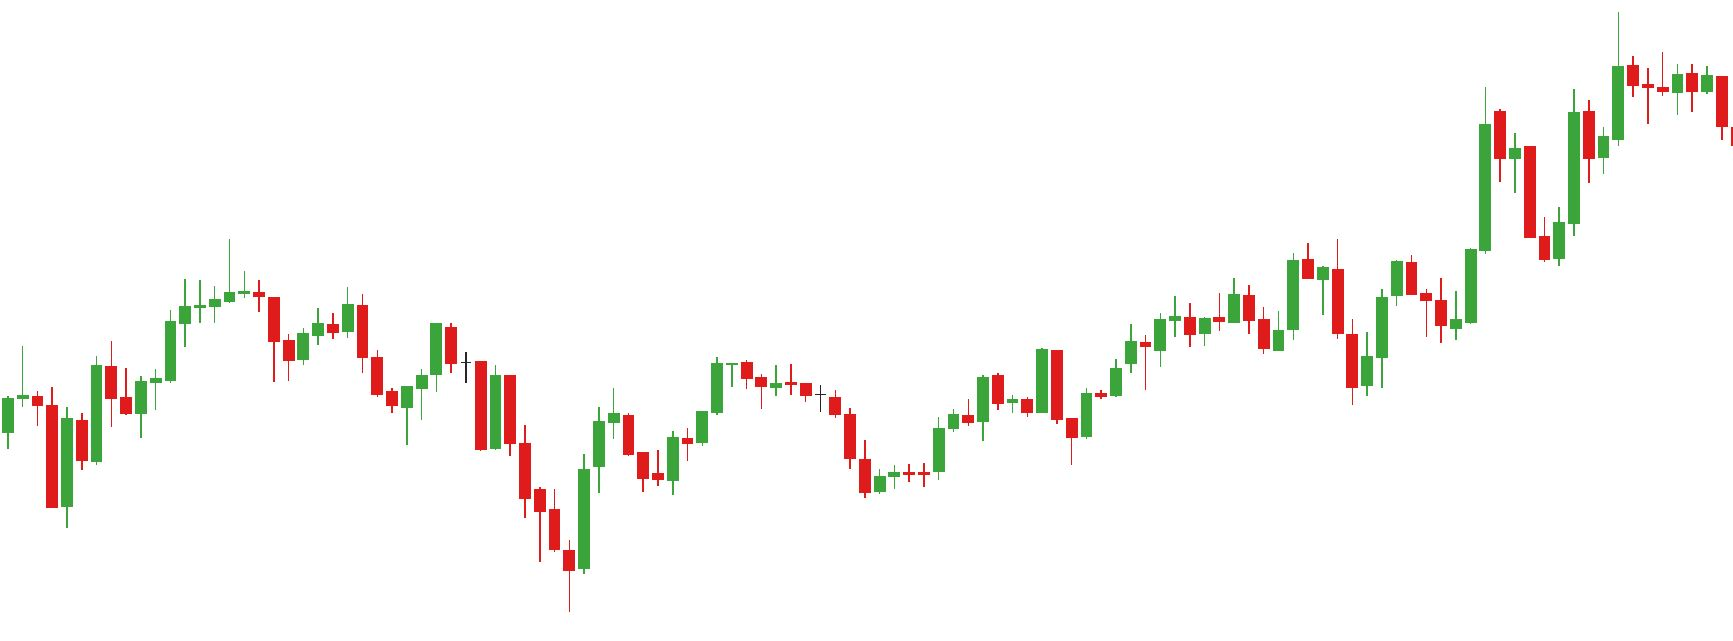buy: (651, 404, 887, 502), (1256, 272, 1389, 401), (975, 375, 1095, 470)
